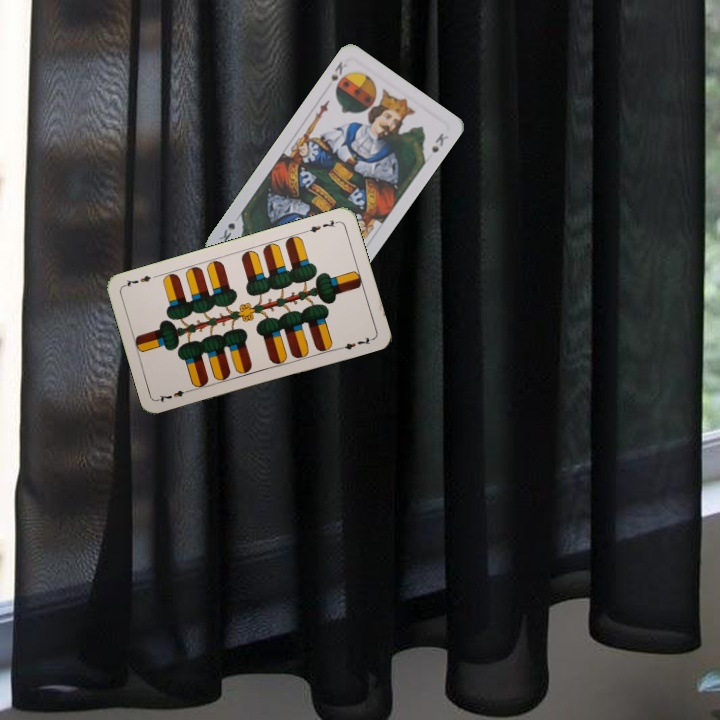E7: (155, 385, 194, 405), (301, 216, 341, 235)
SK: (327, 57, 350, 84)
